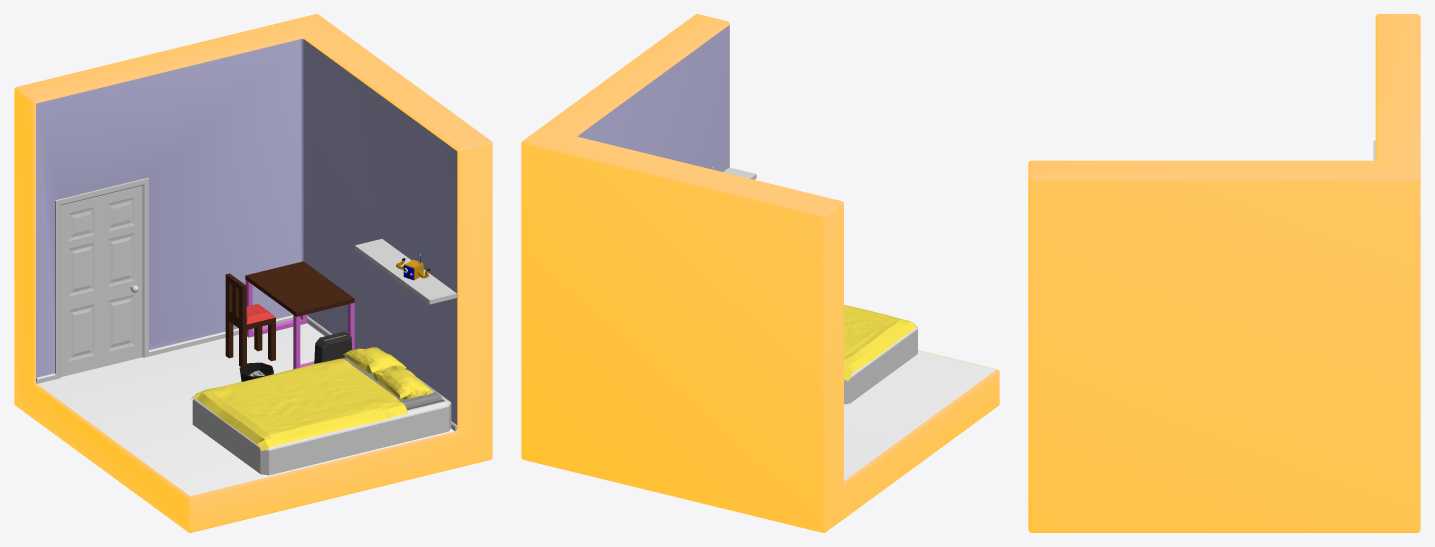
Rendered from CozyRoom_10.glb.
3 renders of one model, left to right at view 1: azimuth 30°, elevation 25°; view 2: azimuth 150°, elevation 25°; view 3: azimuth 270°, elevation 25°, orthographic. The views are drawn at different scales.
Visible parts, largest first — view 1: Cube.027, Cube.004, Plane.014, Cube.002, Cube.019, Cube.023, Cube.008, Cube.007, Plane.016, Cube.005, Plane.015, Cube.013 (+2 smaller); view 2: Cube.027, Plane.014, Cube.002; view 3: Cube.027.
Boxes of the visible parts, left/top/right/bottom form: Cube.027: left=14, top=14, right=492, bottom=532; Cube.004: left=61, top=185, right=142, bottom=376; Plane.014: left=191, top=358, right=408, bottom=451; Cube.002: left=192, top=357, right=451, bottom=475; Cube.019: left=245, top=261, right=354, bottom=369; Cube.023: left=225, top=273, right=275, bottom=366; Cube.008: left=354, top=239, right=456, bottom=304; Cube.007: left=142, top=178, right=148, bottom=357; Plane.016: left=372, top=369, right=433, bottom=399; Cube.005: left=55, top=199, right=60, bottom=379; Plane.015: left=343, top=347, right=406, bottom=374; Cube.013: left=314, top=331, right=352, bottom=363; Cube.027: left=521, top=14, right=999, bottom=532; Plane.014: left=844, top=305, right=918, bottom=381; Cube.002: left=844, top=327, right=917, bottom=404; Cube.027: left=1028, top=14, right=1420, bottom=532.
Size of the model in its own units: 2.26 by 2.26 by 2.26.
